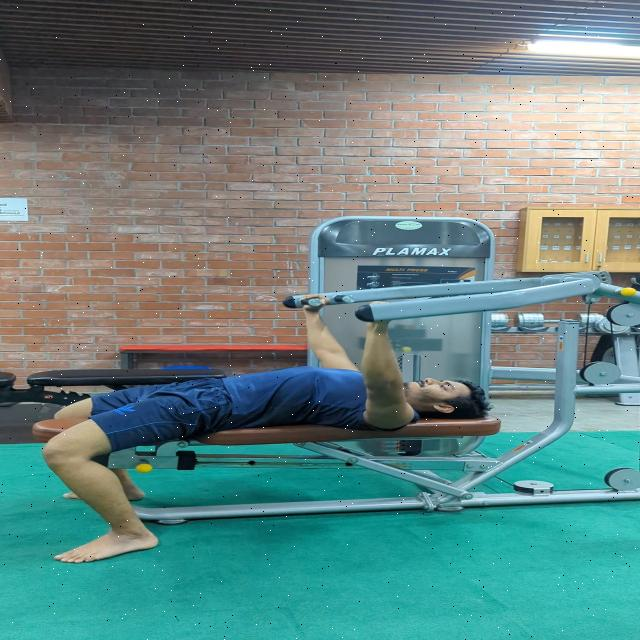Normal_BrenchPress: (24, 262, 541, 577)
